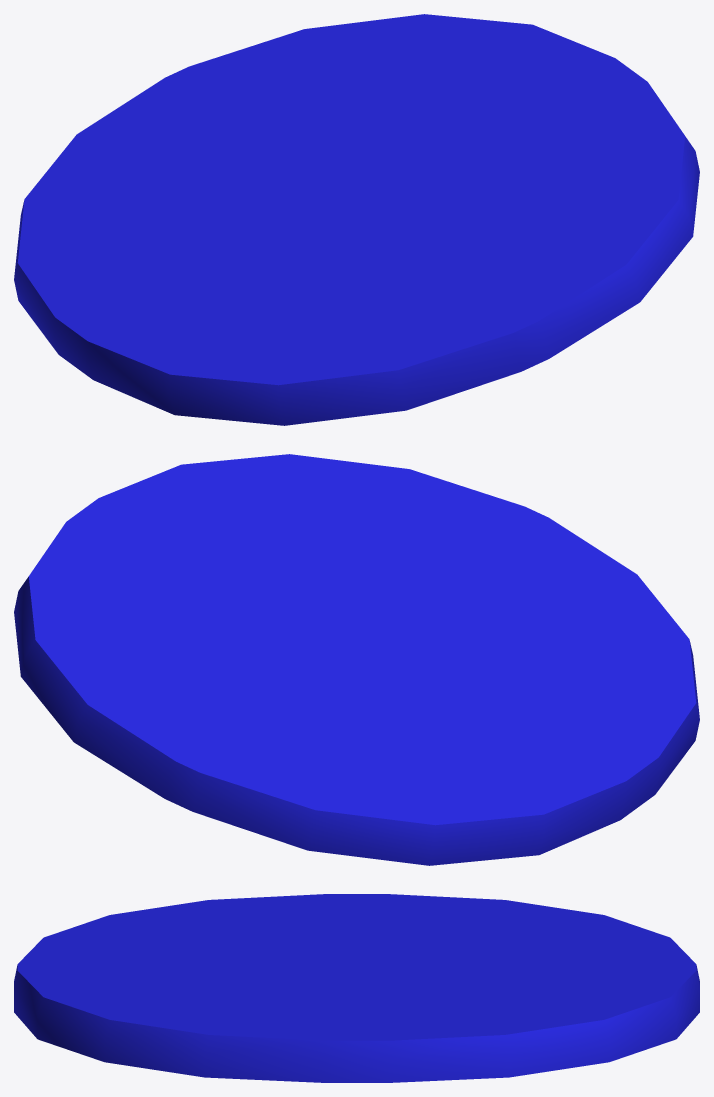
File: BotonCriogenico.fbx
3 renders of one model, top to bottom at view 1: azimuth 30°, elevation 25°; view 2: azimuth 150°, elevation 25°; view 3: azimuth 270°, elevation 25°, orthographic. The views are drawn at different scales.
Parts seen in each view (by area): view 1: Cube.037; view 2: Cube.037; view 3: Cube.037.
Part boxes in pixels (x1,y1,x2,y2): Cube.037: (14,14,699,425); Cube.037: (14,454,699,865); Cube.037: (14,894,699,1082).
Bounding box in the file's own units: 5.82 × 1.58 × 6.21.
